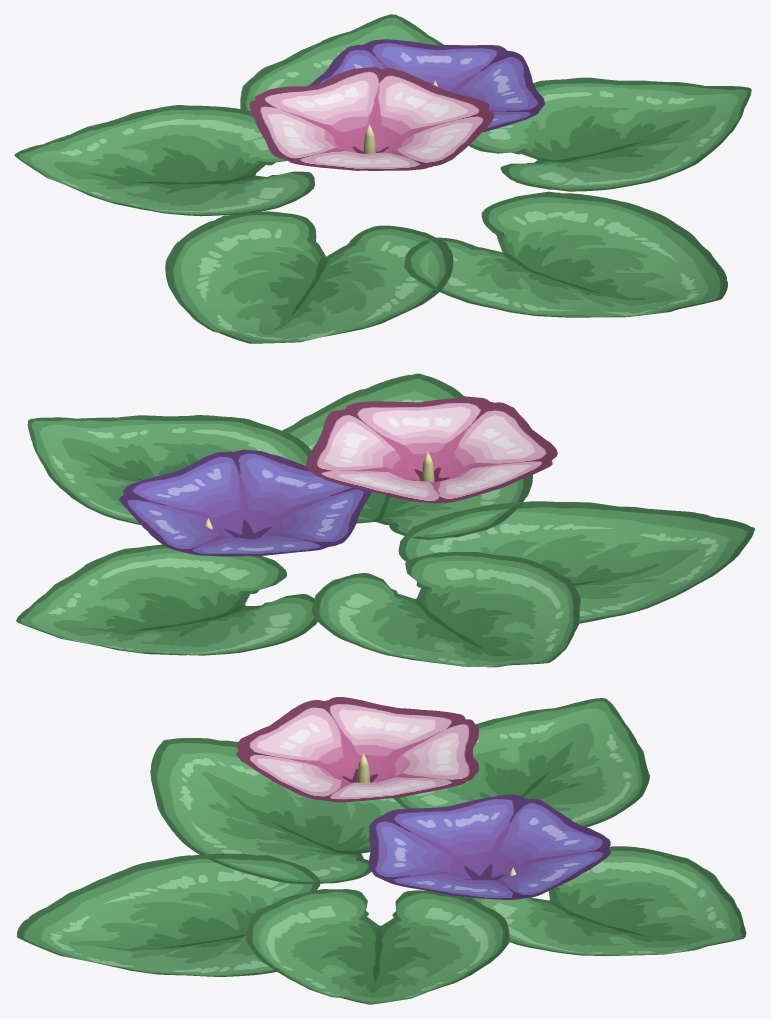
File: MorningGlory.fbx
3 views of the same model, one above another, from view 1: azimuth 30°, elevation 25°; view 2: azimuth 150°, elevation 25°; view 3: azimuth 270°, elevation 25° (orthographic). The views are drawn at different scales.
Parts seen in each view (by area): view 1: MorningGlory; view 2: MorningGlory; view 3: MorningGlory.
Boxes of the visible parts, bbox=[...] form: MorningGlory: bbox=[14, 14, 751, 343]; MorningGlory: bbox=[16, 373, 754, 667]; MorningGlory: bbox=[16, 697, 746, 1004].
Size of the model in its own units: 0.5935 by 0.1212 by 0.6014.
